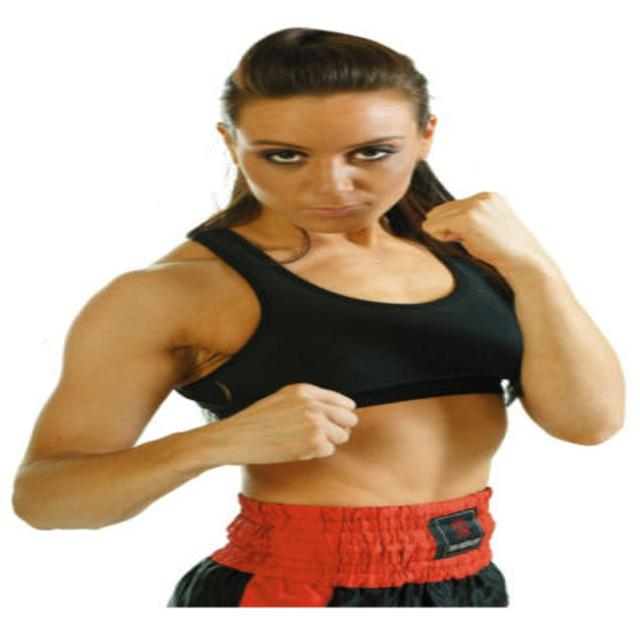Face: (225, 89, 441, 236)
